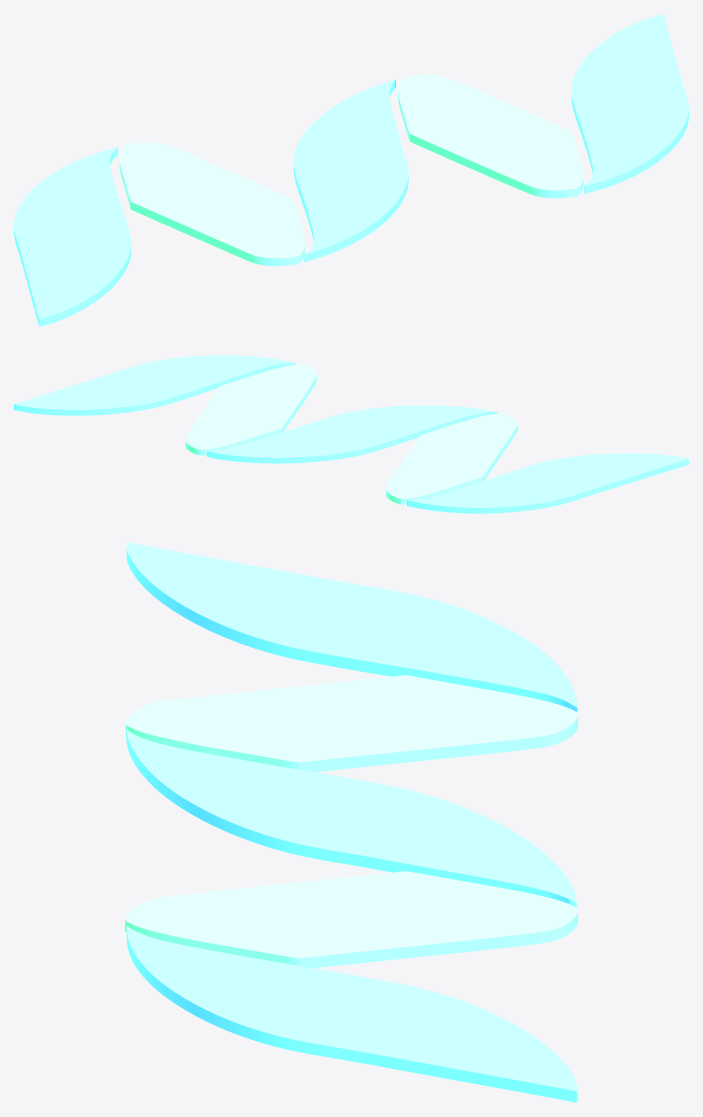
The model's file is new_nexus.glb.
3 views of the same model, one above another, from view 1: azimuth 30°, elevation 25°; view 2: azimuth 150°, elevation 25°; view 3: azimuth 270°, elevation 25° (orthographic). The views are drawn at different scales.
Parts seen in each view (by area): view 1: path45.001; view 2: path45.001; view 3: path45.001.
Part boxes in pixels (<box>): path45.001: <box>14,14,688,326</box>; path45.001: <box>14,355,688,513</box>; path45.001: <box>125,542,577,1102</box>.
Bounding box in the file's own units: 24.2 × 0.233 × 8.44.
